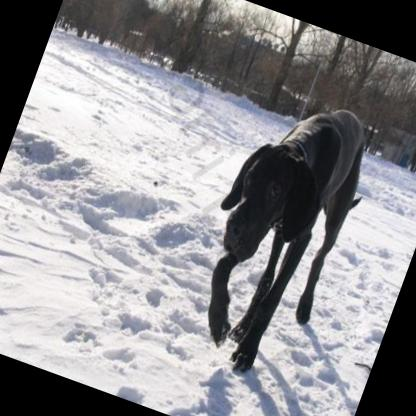Great_Dane: (169, 80, 387, 388)
